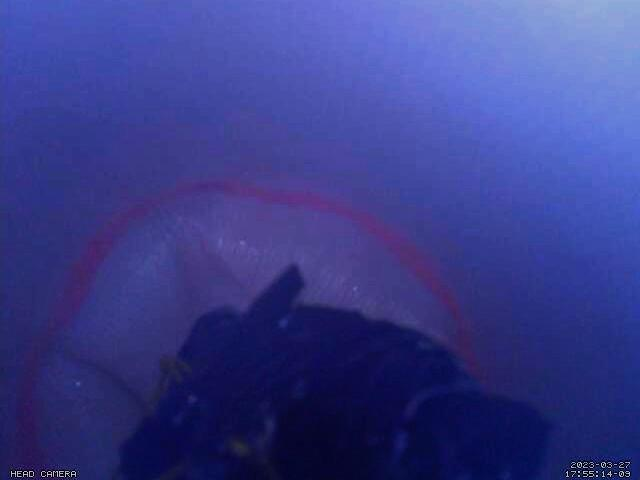head: (10, 177, 492, 480)
